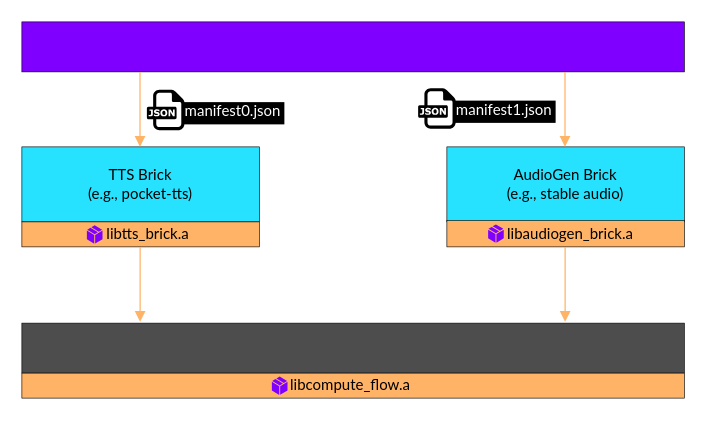
The diagram is 706 pixels wide and 426 high, and some of its shapes have lost their labels. Each missing label, with the centre of its shape:
"Compute Flow API (C++/Python)" goes at (352,347).
"Demo (C++/Python)" goes at (352,46).
